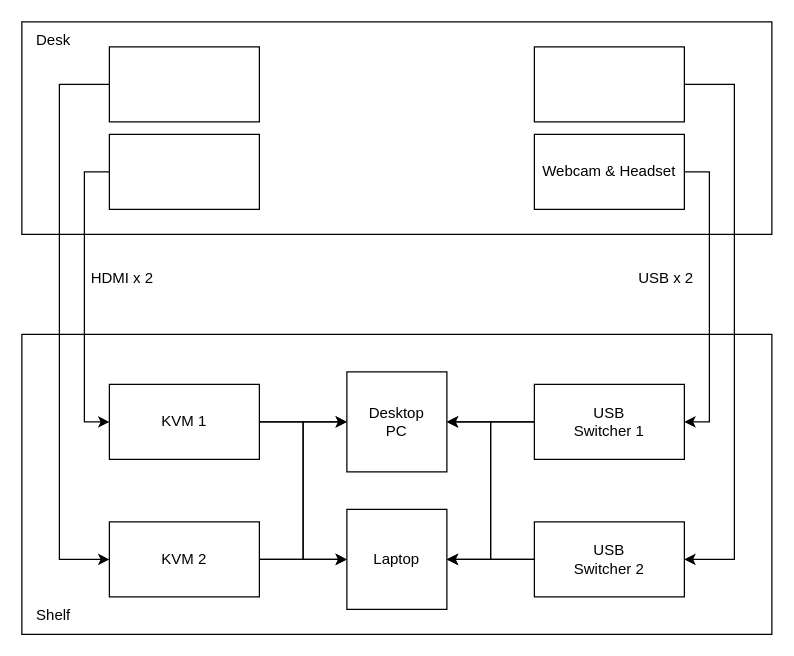
The diagram is 794 pixels wide and 656 high, and some of its shapes have lost their labels. The shapes that lost their labels are listed below. From the top down, each one's centre as x and y in pixels, then its label:
the point at 183,84: Monitor A
the point at 608,84: Keyboard & Mouse
the point at 183,171: Monitor B
